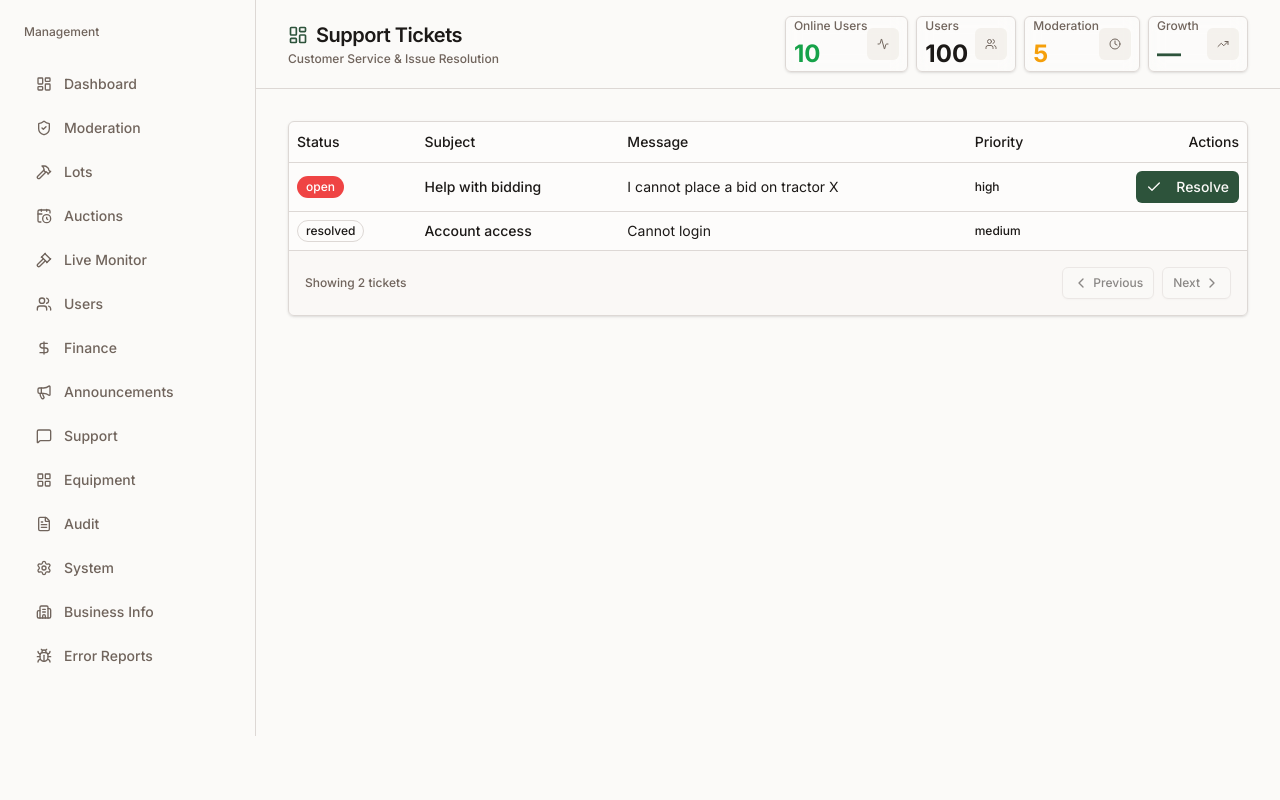
Test: AdminSupport Page › closes resolution dialog on cancel or backdrop click
Click the button "Resolve". click: (1188, 186)
box: x1=1136 y1=170 x2=1239 y2=202
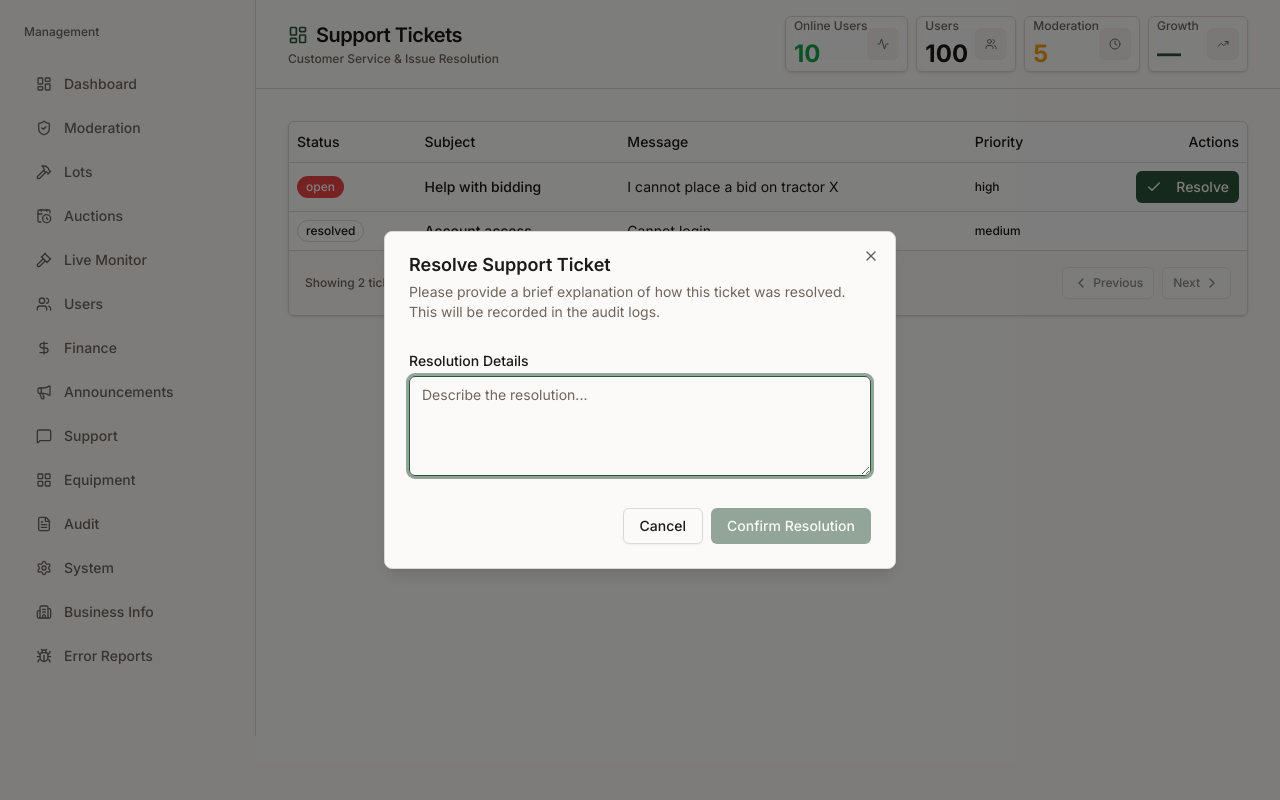
Result: the heading "Resolve Support Ticket" is shown at x1=409 y1=254 x2=611 y2=275
Click the button "Cancel". click: (663, 526)
box: x1=622 y1=508 x2=703 y2=544
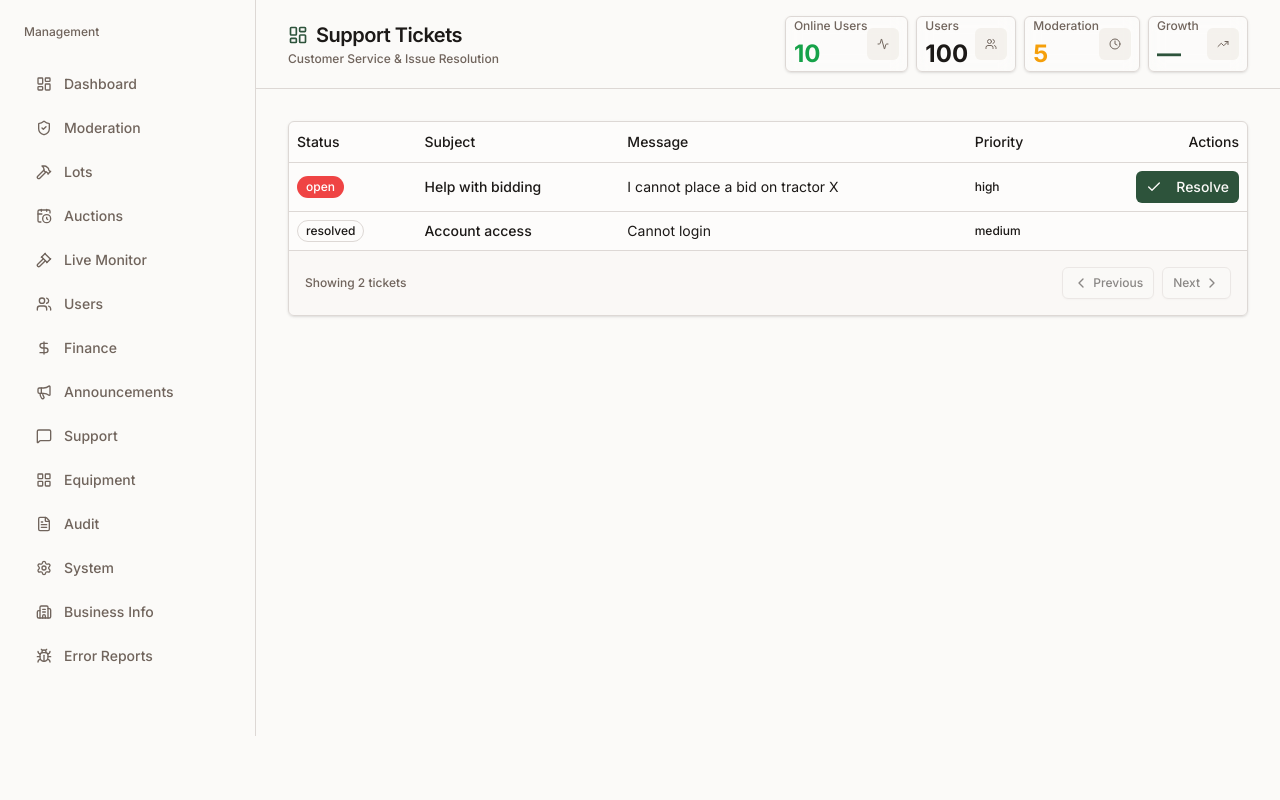
Result: the heading "Resolve Support Ticket" is gone
